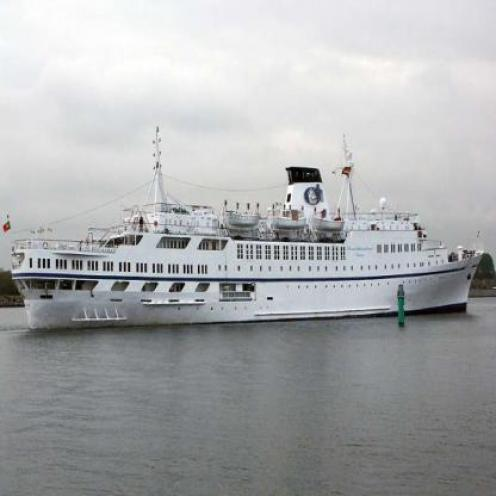Ship: (4, 204, 483, 328)
